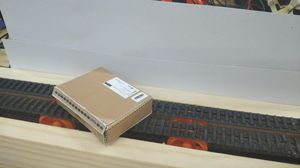box2: (50, 65, 154, 146)
